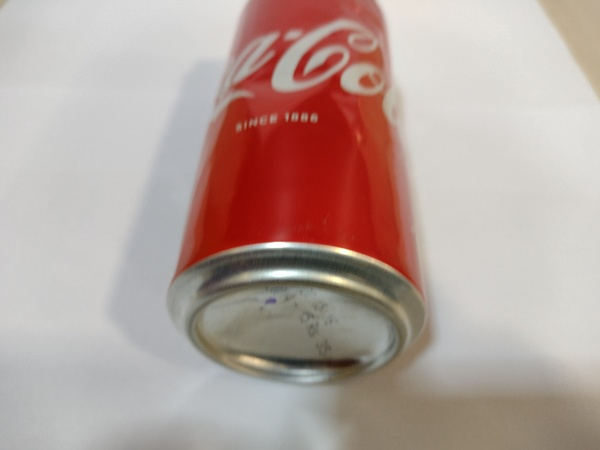can: (159, 3, 439, 393)
